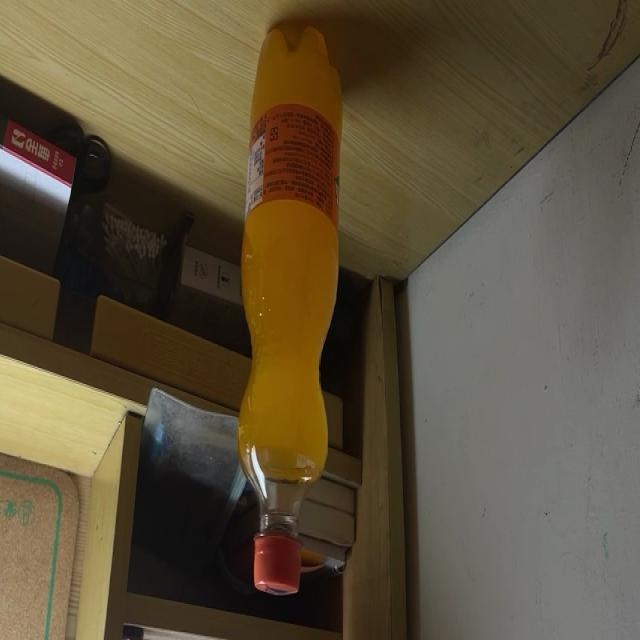Fanta: (238, 24, 342, 592)
